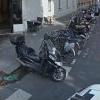Motorcycle: (6, 26, 82, 85)
